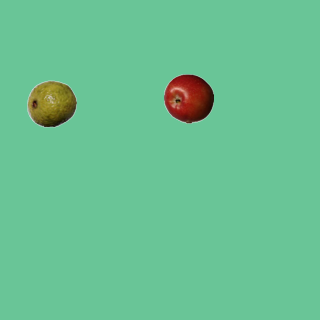Apple Braeburn: (163, 73, 213, 123)
Guava: (26, 78, 76, 128)
